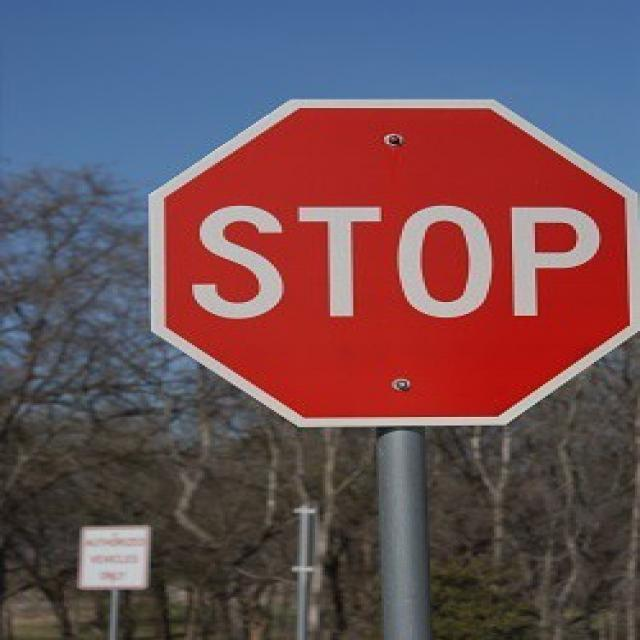stop: (146, 96, 638, 429)
